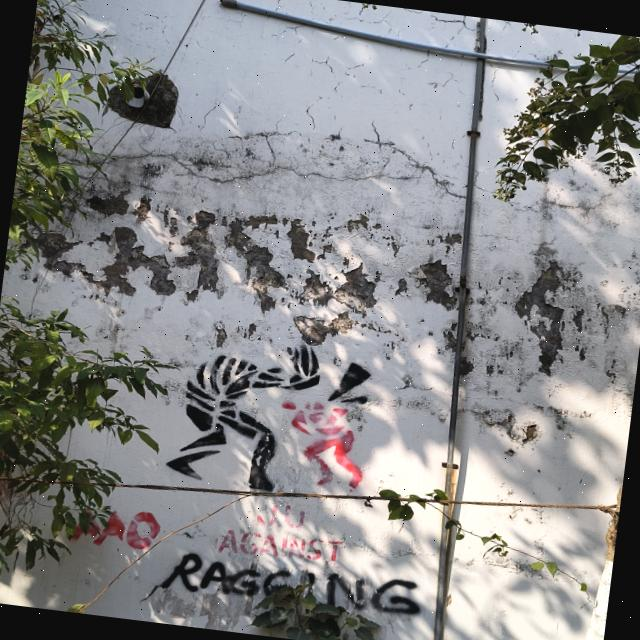crack: (184, 0, 609, 167), (74, 109, 478, 199)
peeling: (37, 210, 222, 302), (503, 260, 625, 376), (221, 215, 286, 313), (291, 257, 380, 316), (410, 258, 459, 310), (281, 218, 334, 262), (294, 311, 354, 345), (459, 320, 490, 381), (487, 413, 538, 443), (86, 191, 128, 215), (346, 214, 369, 232), (213, 322, 227, 347), (439, 233, 461, 246)
stain_mould: (36, 210, 218, 301), (224, 215, 285, 312), (514, 261, 565, 375), (294, 263, 378, 315), (411, 259, 458, 310), (286, 218, 330, 262), (293, 313, 352, 345), (86, 189, 129, 216), (346, 214, 368, 232), (570, 309, 584, 332), (438, 233, 461, 246), (459, 357, 473, 376)
